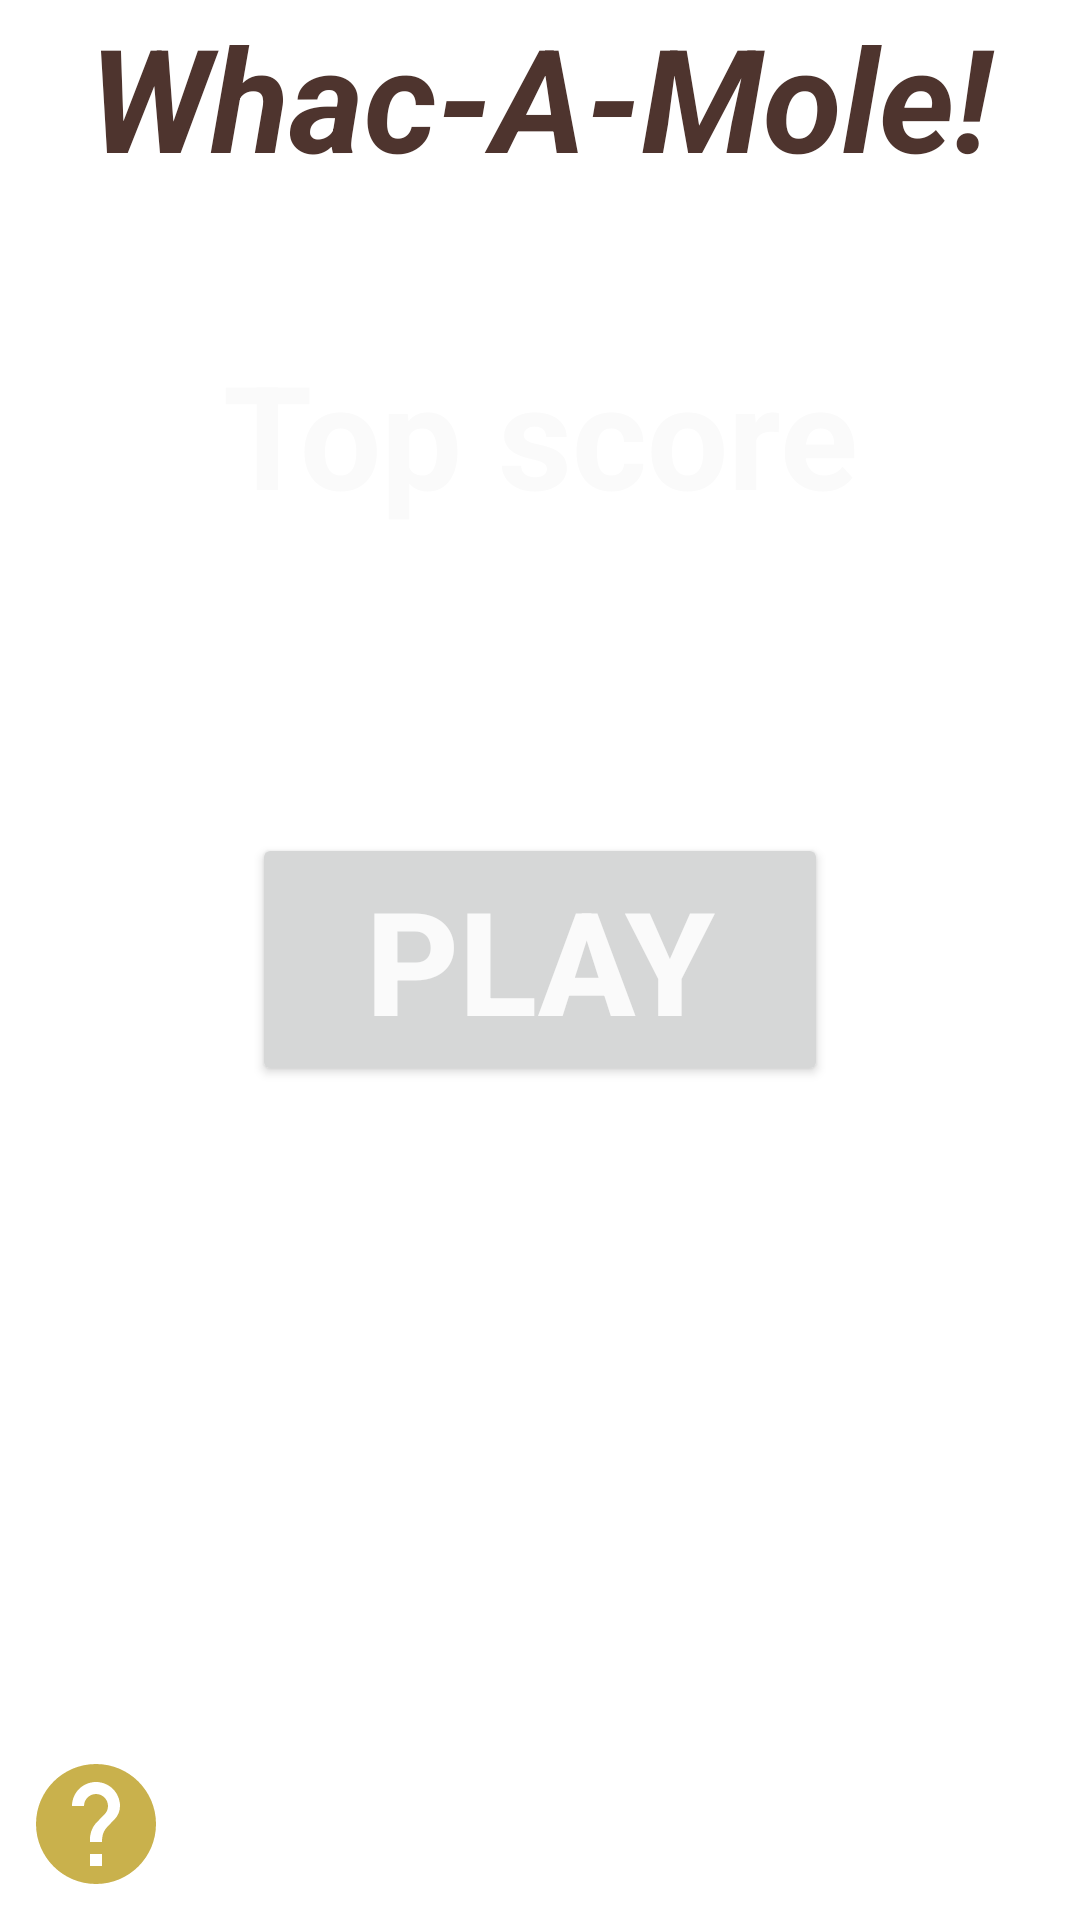

Locate icon controls on the screen. Image size 1080px x 1920px, boxes as (x1, y1, x2, y2).
info: (36, 1764, 156, 1884)
